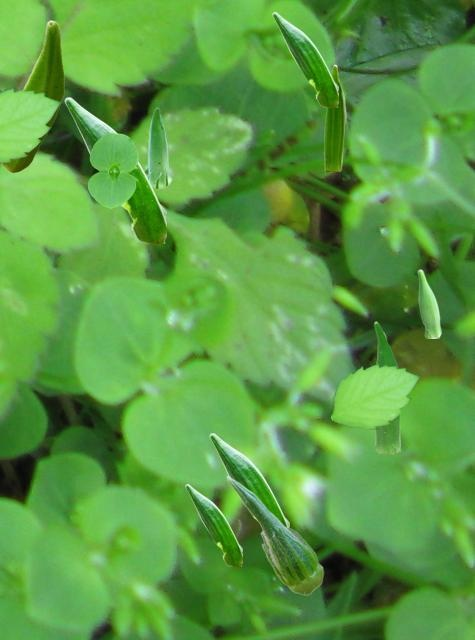okra: (64, 97, 165, 242), (226, 475, 323, 594), (1, 20, 63, 171), (209, 433, 288, 526), (272, 12, 337, 106), (185, 484, 241, 565), (374, 321, 399, 453), (324, 64, 345, 170), (144, 107, 171, 188), (417, 269, 440, 337)
